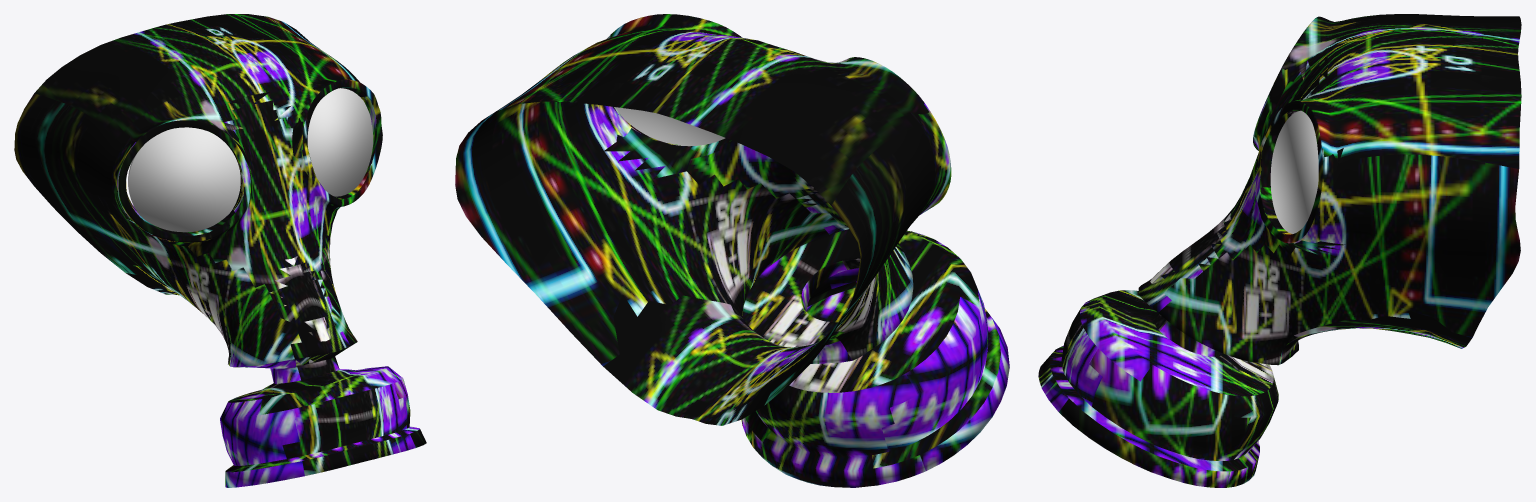
File: Gasmask.gltf
The picture shows the model from 3 angles, left to right: view 1: azimuth 30°, elevation 25°; view 2: azimuth 150°, elevation 25°; view 3: azimuth 270°, elevation 25°; orthographic projection. The views are drawn at different scales.
Parts seen in each view (by area): view 1: Gas mask N180920; view 2: Gas mask N180920; view 3: Gas mask N180920.
Part boxes in pixels (<box>): Gas mask N180920: <box>14,14,426,487</box>; Gas mask N180920: <box>455,14,1009,487</box>; Gas mask N180920: <box>1038,14,1521,487</box>.
Size of the model in its own units: 95.69 by 112 by 115.
Materials: 2 (1 with a texture image).
